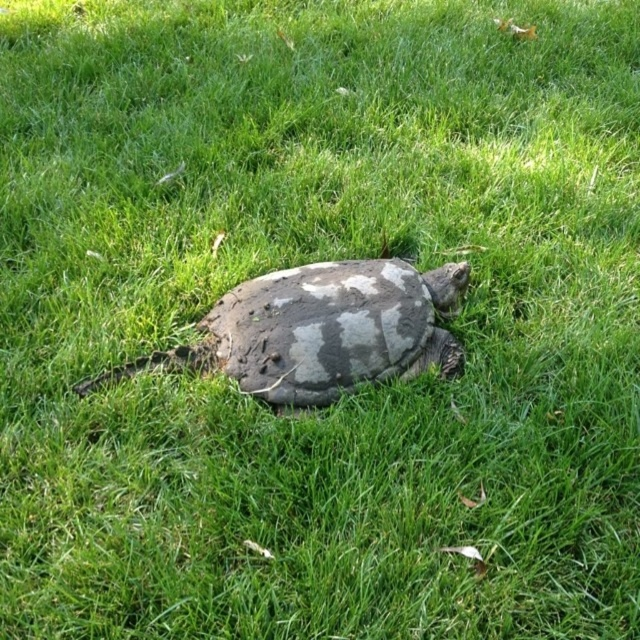Tortoise: (73, 256, 471, 419)
